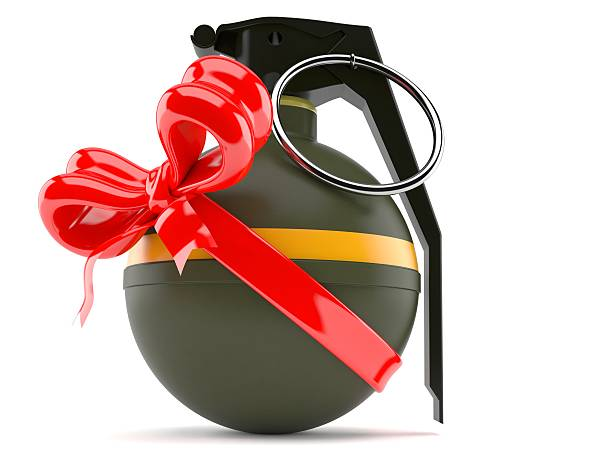e1: (119, 16, 452, 428)
